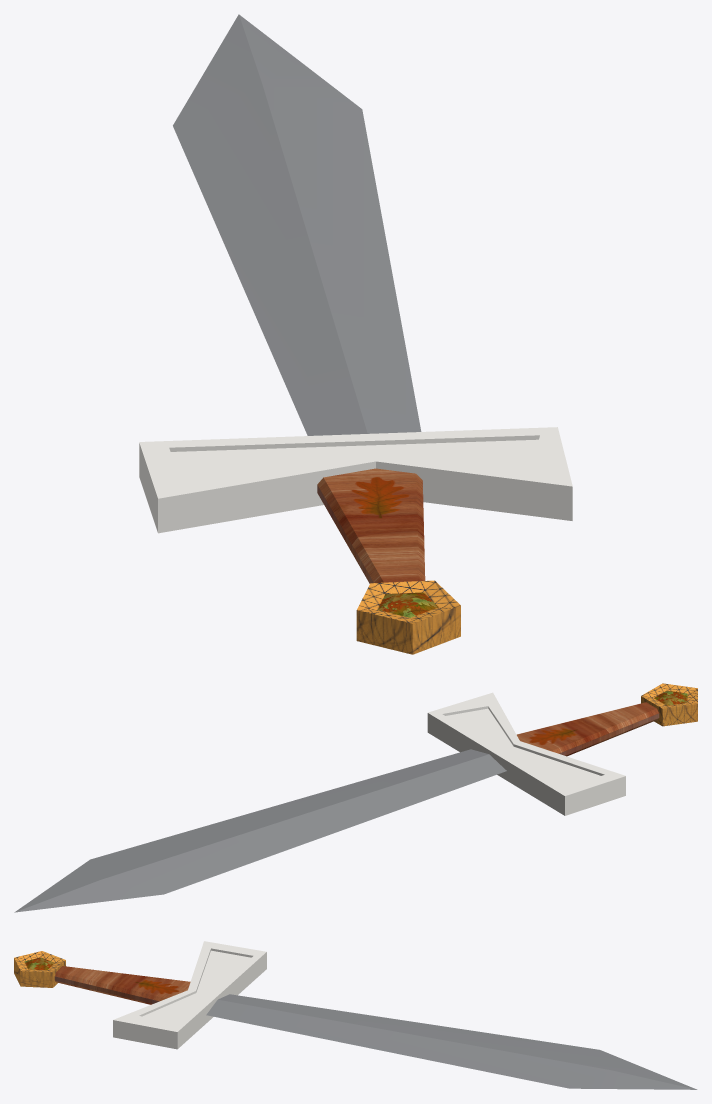
File: 未命名.glb
3 views of the same model, one above another, from view 1: azimuth 30°, elevation 25°; view 2: azimuth 150°, elevation 25°; view 3: azimuth 270°, elevation 25° (orthographic). The views are drawn at different scales.
Parts seen in each view (by area): view 1: metal sword; view 2: metal sword; view 3: metal sword.
Part boxes in pixels (box(x1,y1,x2,y2)): metal sword: box(139, 14, 572, 654); metal sword: box(14, 683, 697, 912); metal sword: box(14, 941, 697, 1089).
Bounding box in the file's own units: 2.25 × 0.1297 × 4.64.
Materials: 1 (1 with a texture image).
